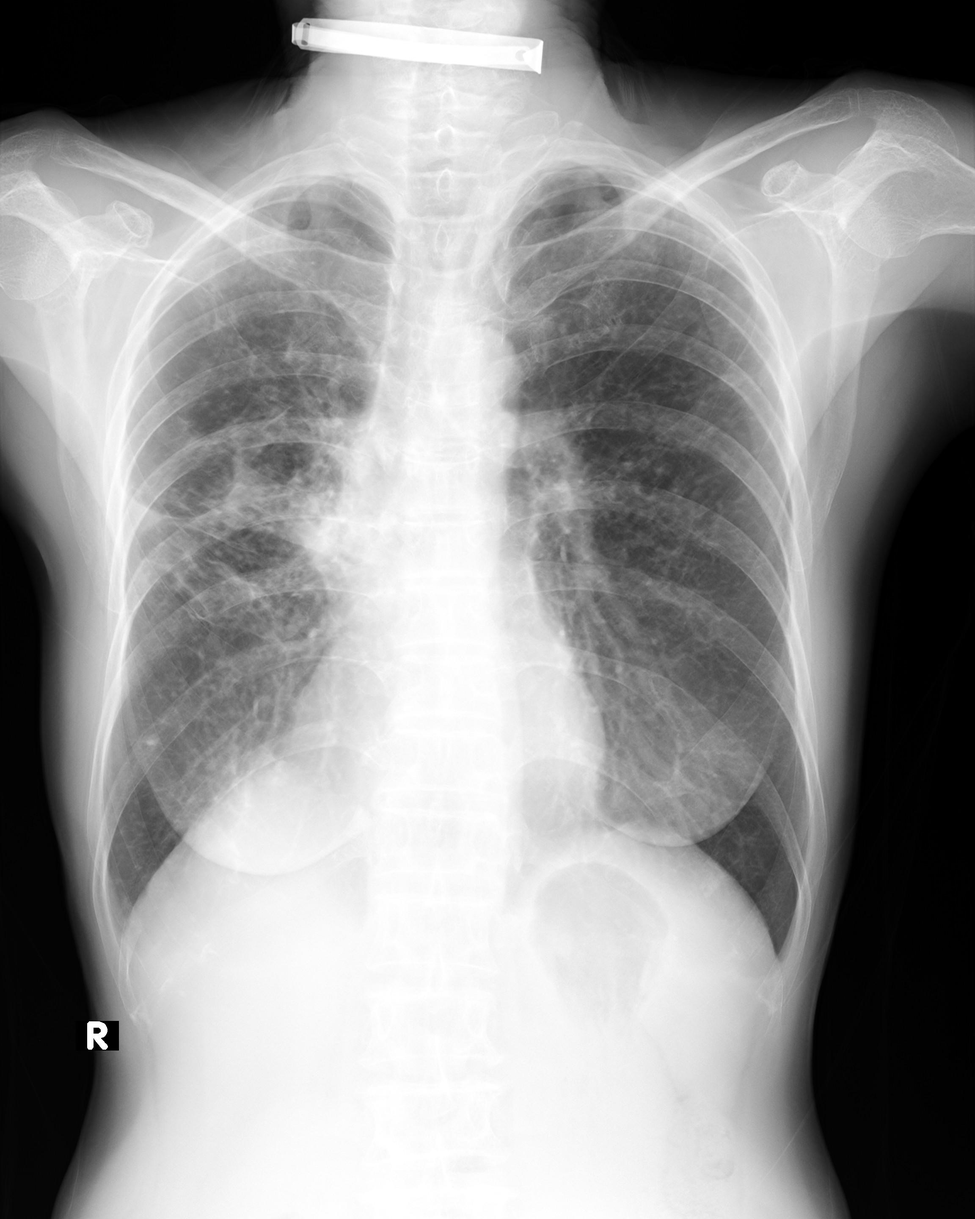Pleural thickening: (513, 161, 609, 210), (243, 168, 372, 196)
Pulmonary fibrosis: (120, 185, 362, 858)
